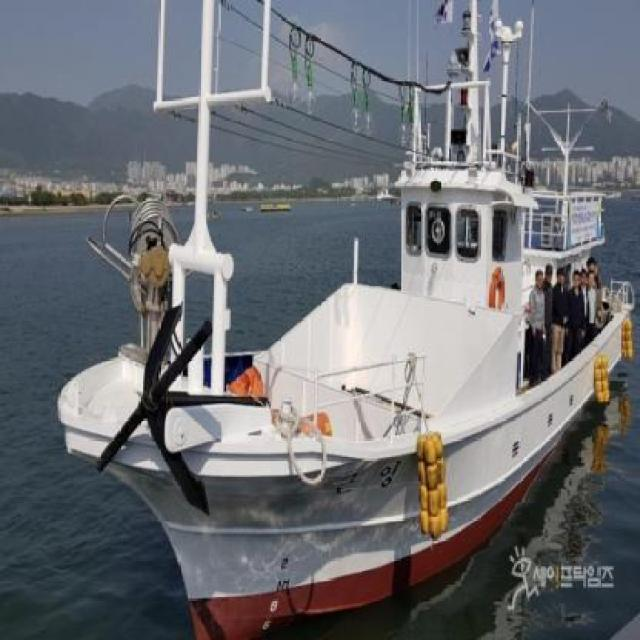fish-b: (52, 1, 640, 639)
